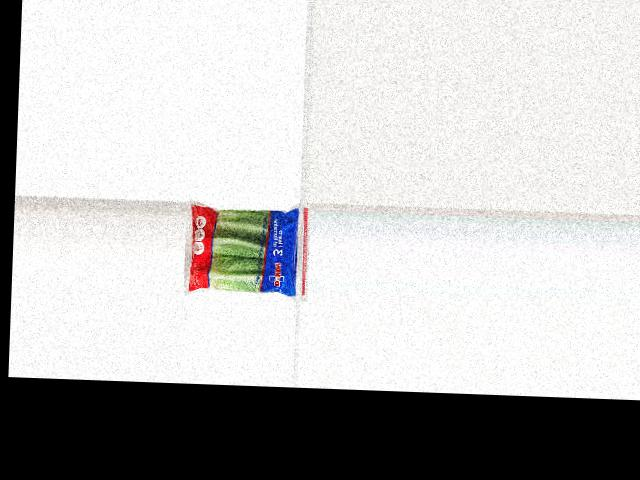lettuce: (183, 203, 304, 301)
